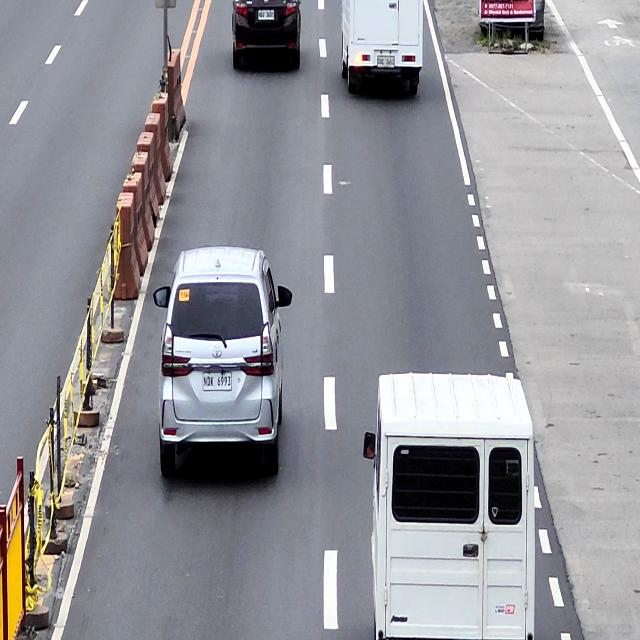Car: (364, 371, 538, 640), (154, 245, 290, 481), (341, 0, 423, 98), (231, 0, 301, 73)
License-Plate: (202, 374, 233, 392), (376, 56, 396, 67), (258, 9, 276, 20)
